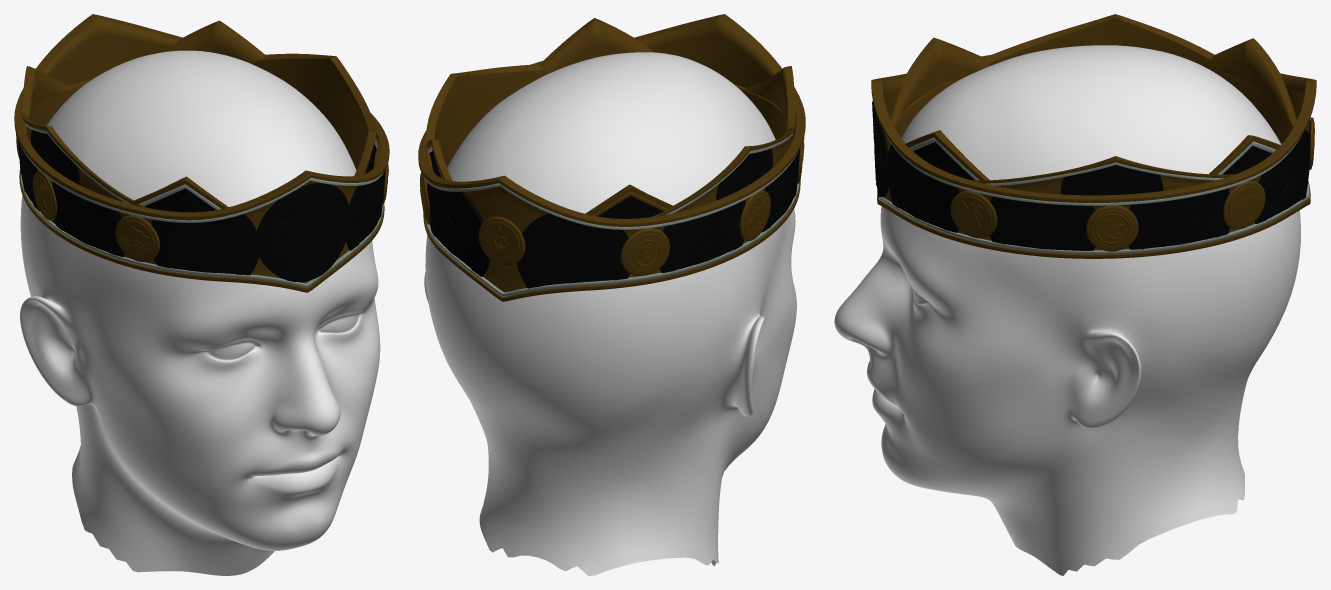
File: Crown HoD.fbx
The picture shows the model from 3 angles, left to right: view 1: azimuth 30°, elevation 25°; view 2: azimuth 150°, elevation 25°; view 3: azimuth 270°, elevation 25°; orthographic projection. The views are drawn at different scales.
Parts seen in each view (by area): view 1: FaceBuilderHead018, Cylinder026; view 2: FaceBuilderHead018, Cylinder026; view 3: FaceBuilderHead018, Cylinder026.
Boxes of the visible parts, left/top/right/bottom form: FaceBuilderHead018: left=20, top=50, right=380, bottom=575; Cylinder026: left=14, top=14, right=389, bottom=292; FaceBuilderHead018: left=424, top=52, right=796, bottom=575; Cylinder026: left=418, top=14, right=805, bottom=301; FaceBuilderHead018: left=834, top=45, right=1300, bottom=575; Cylinder026: left=871, top=14, right=1316, bottom=258.
Size of the model in its own units: 17.3 by 24.4 by 22.19.
